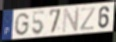5: (32, 9, 46, 36)
6: (98, 6, 110, 30)
7: (49, 9, 62, 35)
G: (14, 12, 30, 37)
N: (62, 7, 81, 34)
Z: (79, 6, 97, 32)
